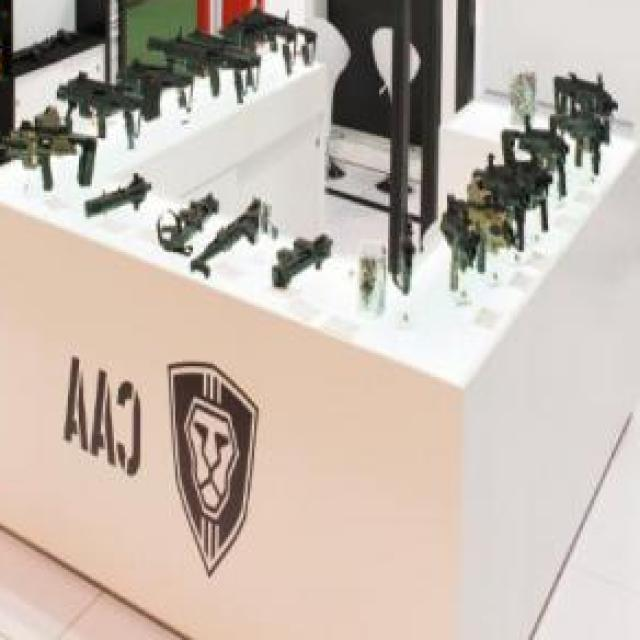pistol: (84, 171, 152, 224)
